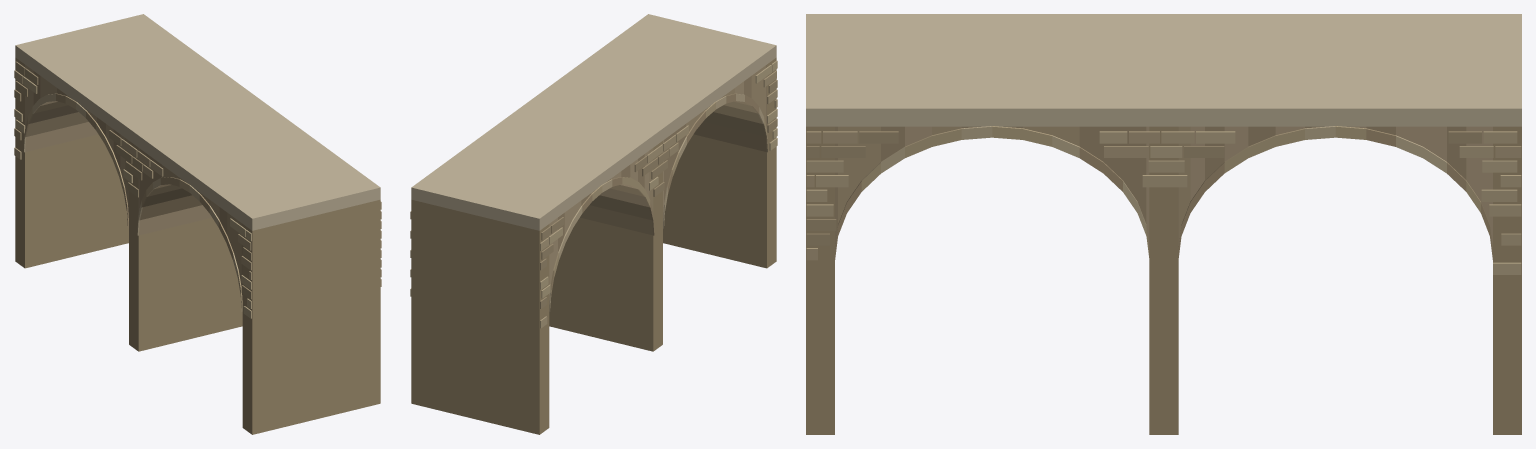
The model's file is bridge-stone-16.glb.
The picture shows the model from 3 angles, left to right: view 1: azimuth 30°, elevation 25°; view 2: azimuth 150°, elevation 25°; view 3: azimuth 270°, elevation 25°; orthographic projection. The views are drawn at different scales.
Parts seen in each view (by area): view 1: Deck | pale paving, Pier 03 | bank foundation, Pier 02 | bank foundation, Pier 01 | bank foundation, Arch 02 | vault 15, Arch 01 | vault 15, Arch 02 | vault 14, Arch 01 | vault 14, Arch 02 | vault 13, Arch 01 | vault 13; view 2: Deck | pale paving, Pier 01 | bank foundation, Pier 02 | bank foundation, Pier 03 | bank foundation, Arch 01 | vault 00, Arch 02 | vault 00, Arch 02 | vault 01, Arch 01 | vault 01, Arch 02 | vault 02, Arch 01 | vault 02, Arch 02 | vault 03; view 3: Deck | pale paving, Pier 02 | bank foundation, Pier 01 | bank foundation, Pier 03 | bank foundation, Arch 01 | vault 11.
Boxes of the visible parts, x1,y1,x2,y2 form: Deck | pale paving: [15, 14, 380, 230]; Pier 03 | bank foundation: [242, 199, 380, 434]; Pier 02 | bank foundation: [129, 141, 242, 351]; Pier 01 | bank foundation: [15, 57, 128, 268]; Arch 02 | vault 15: [138, 148, 211, 235]; Arch 01 | vault 15: [25, 65, 97, 151]; Arch 02 | vault 14: [139, 149, 201, 220]; Arch 01 | vault 14: [26, 65, 88, 136]; Arch 02 | vault 13: [142, 151, 191, 206]; Arch 01 | vault 13: [29, 67, 78, 123]; Deck | pale paving: [411, 14, 776, 230]; Pier 01 | bank foundation: [411, 199, 549, 434]; Pier 02 | bank foundation: [549, 141, 662, 351]; Pier 03 | bank foundation: [663, 57, 776, 268]; Arch 01 | vault 00: [580, 148, 653, 235]; Arch 02 | vault 00: [694, 65, 766, 151]; Arch 02 | vault 01: [703, 65, 765, 136]; Arch 01 | vault 01: [590, 149, 652, 220]; Arch 02 | vault 02: [713, 67, 762, 123]; Arch 01 | vault 02: [600, 151, 649, 206]; Arch 02 | vault 03: [724, 71, 758, 113]; Deck | pale paving: [806, 14, 1521, 126]; Pier 02 | bank foundation: [1149, 126, 1178, 434]; Pier 01 | bank foundation: [1493, 126, 1521, 434]; Pier 03 | bank foundation: [806, 126, 834, 434]; Arch 01 | vault 11: [1423, 126, 1446, 161].
Bounding box in the file's own units: 5.1 × 8.05 × 16.
